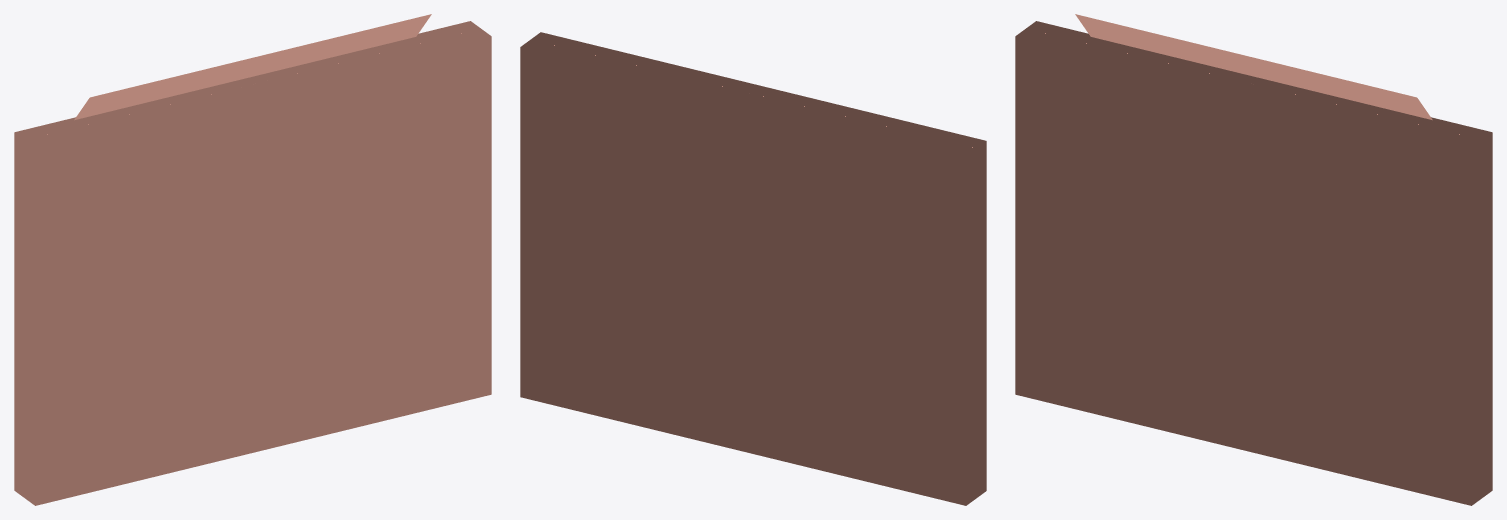
File: env_wall_brick_4m.glb
The picture shows the model from 3 angles, left to right: view 1: azimuth 30°, elevation 25°; view 2: azimuth 150°, elevation 25°; view 3: azimuth 330°, elevation 25°; orthographic projection. The views are drawn at different scales.
Parts seen in each view (by area): view 1: env_wall_brick_4m; view 2: env_wall_brick_4m; view 3: env_wall_brick_4m.
Part boxes in pixels (left/top/right/bottom): env_wall_brick_4m: left=14, top=14, right=491, bottom=505; env_wall_brick_4m: left=520, top=32, right=986, bottom=505; env_wall_brick_4m: left=1015, top=14, right=1492, bottom=505.
Bounding box in the file's own units: 4 × 3.29 × 0.32.
